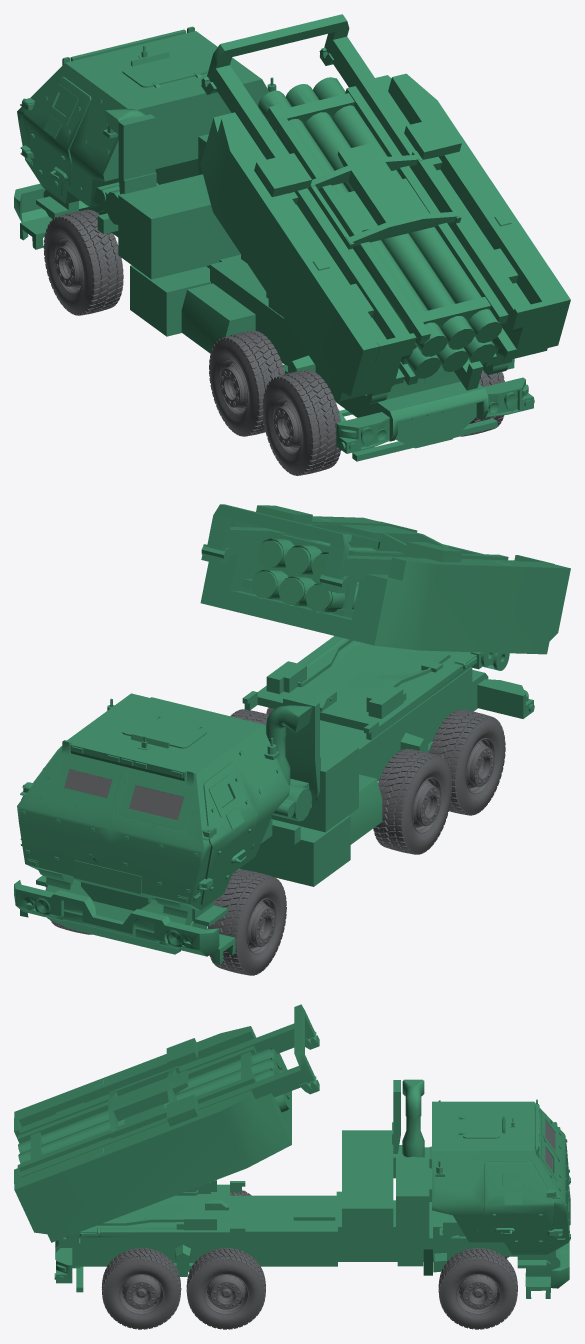
3 renders of one model, top to bottom at view 1: azimuth 30°, elevation 25°; view 2: azimuth 150°, elevation 25°; view 3: azimuth 270°, elevation 25°, orthographic. The views are drawn at different scales.
Visible parts, largest first — view 1: Object_5; view 2: Object_5; view 3: Object_5.
Boxes of the visible parts, <box> form: Object_5: <box>14,14,570,475</box>; Object_5: <box>14,504,570,975</box>; Object_5: <box>14,1004,570,1329</box>.
Bounding box in the file's own units: 69.85 × 111 × 210.
